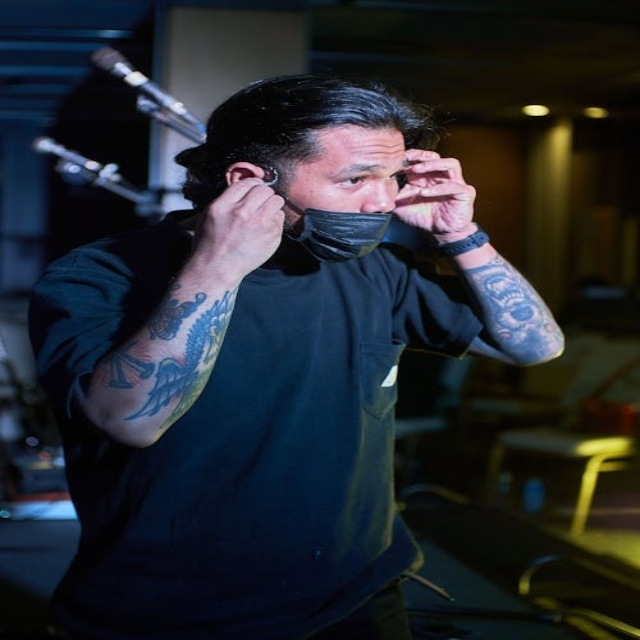Mascara: (279, 195, 395, 264)
Sin_gafas: (300, 160, 408, 194)
Sin_guantes: (390, 147, 481, 235), (197, 179, 276, 271)
